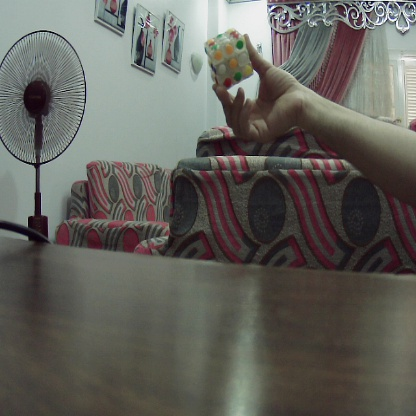Rubix Cube: (205, 30, 253, 89)
